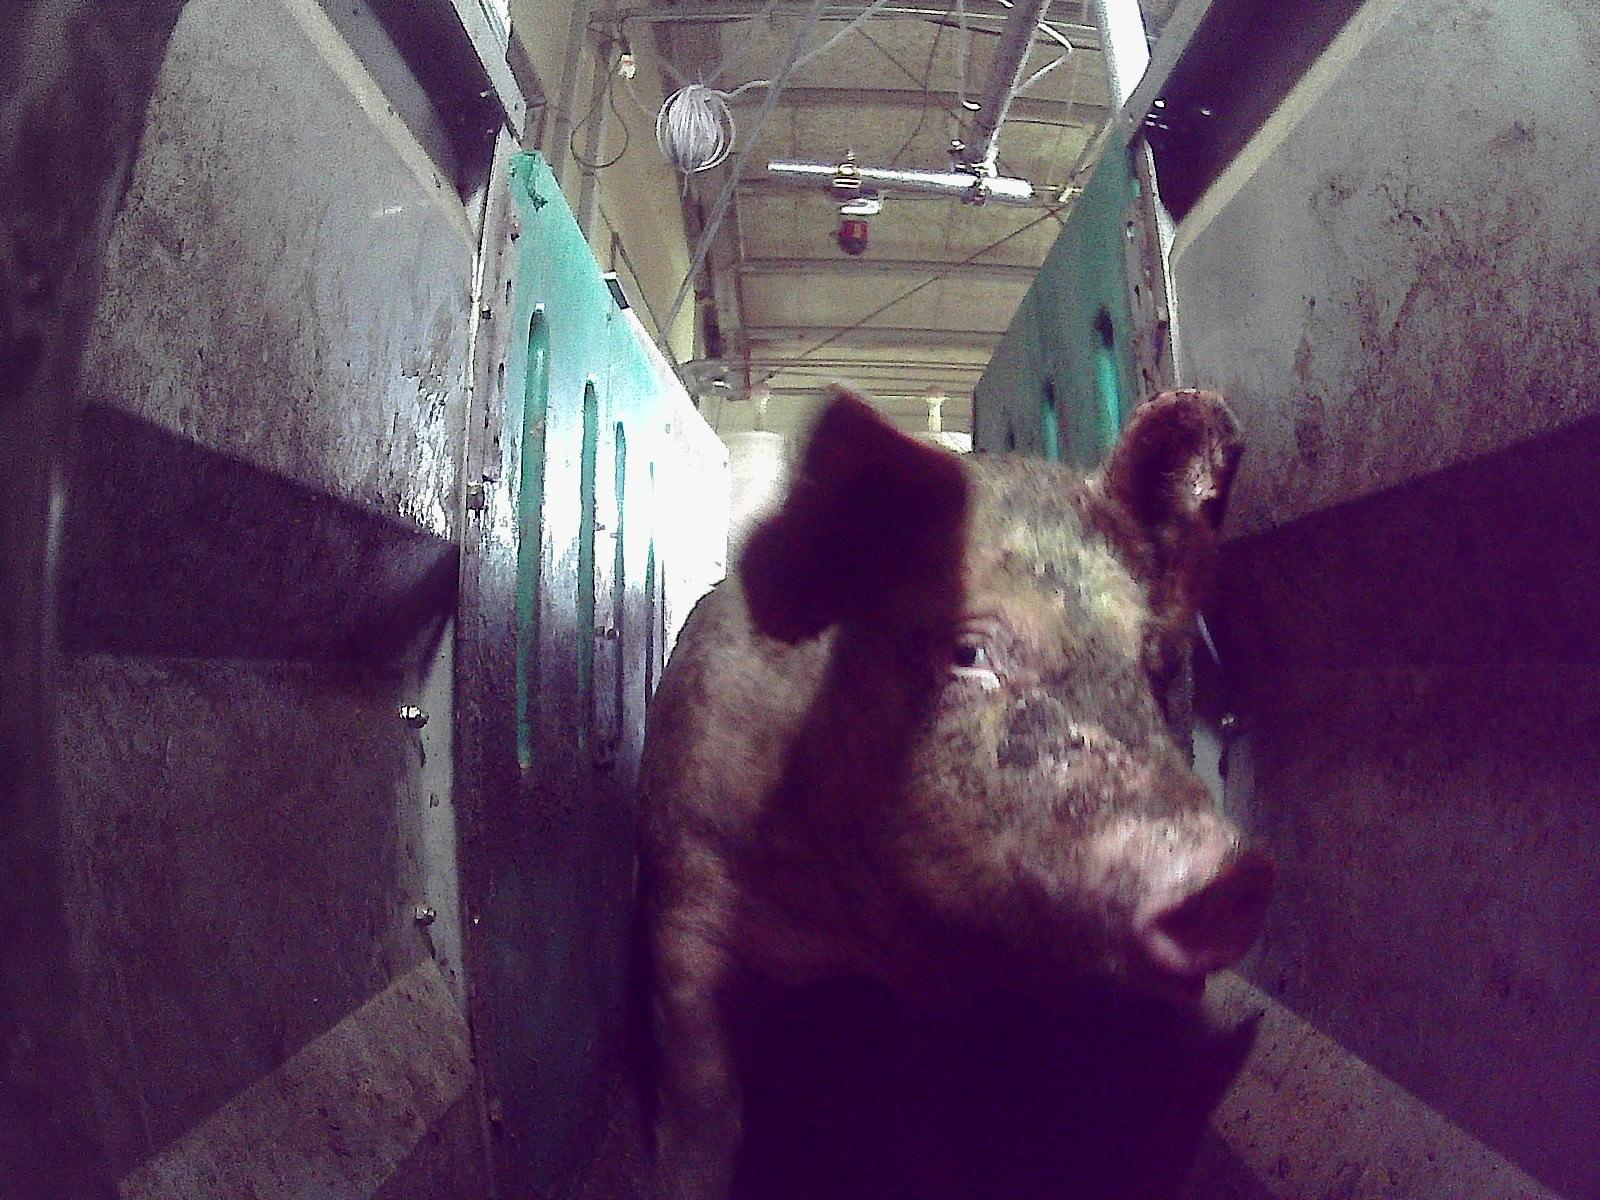Face: (796, 460, 1278, 1016)
